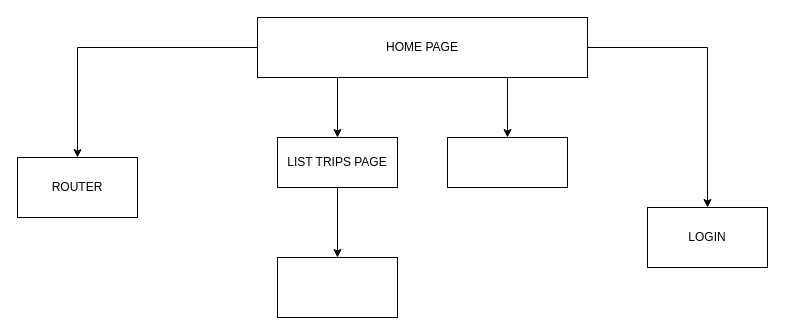
Image size: 785x335. Some labels were removed from this diagram. Each missing label, with the centre of its shape:
"CREATE TRIP PAGE" belongs at (507,162).
"TRIP DETAILS PAGE" belongs at (337,287).
